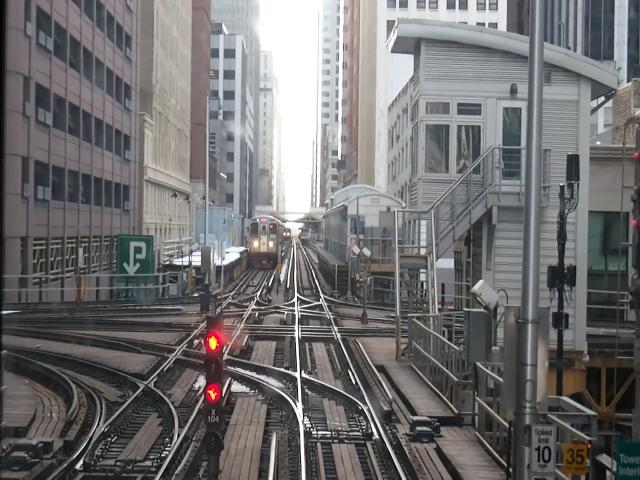signal light: (205, 315, 228, 459)
